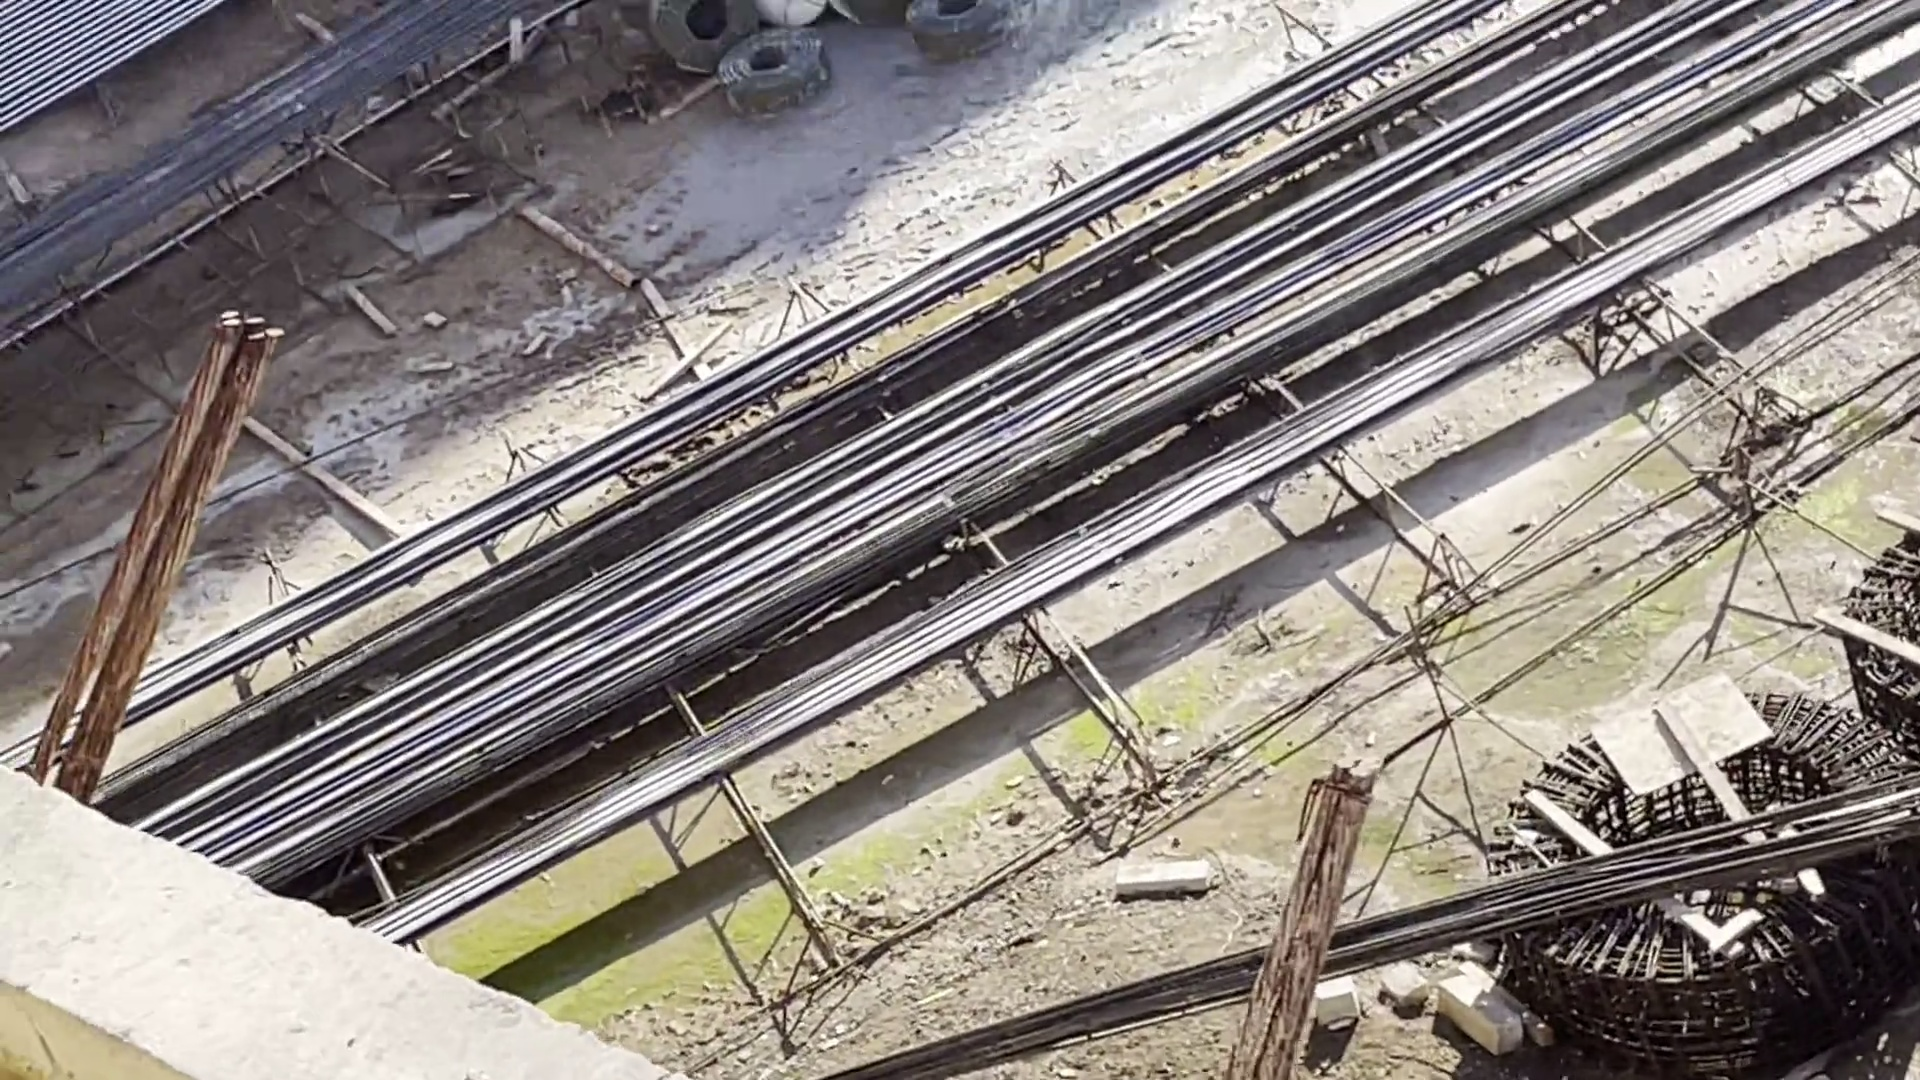rebar: (44, 1, 1904, 901), (735, 733, 1920, 1080)
